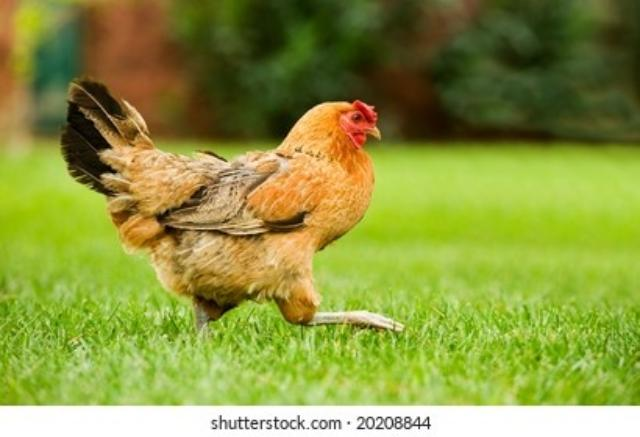Chicken: (62, 77, 406, 331)
